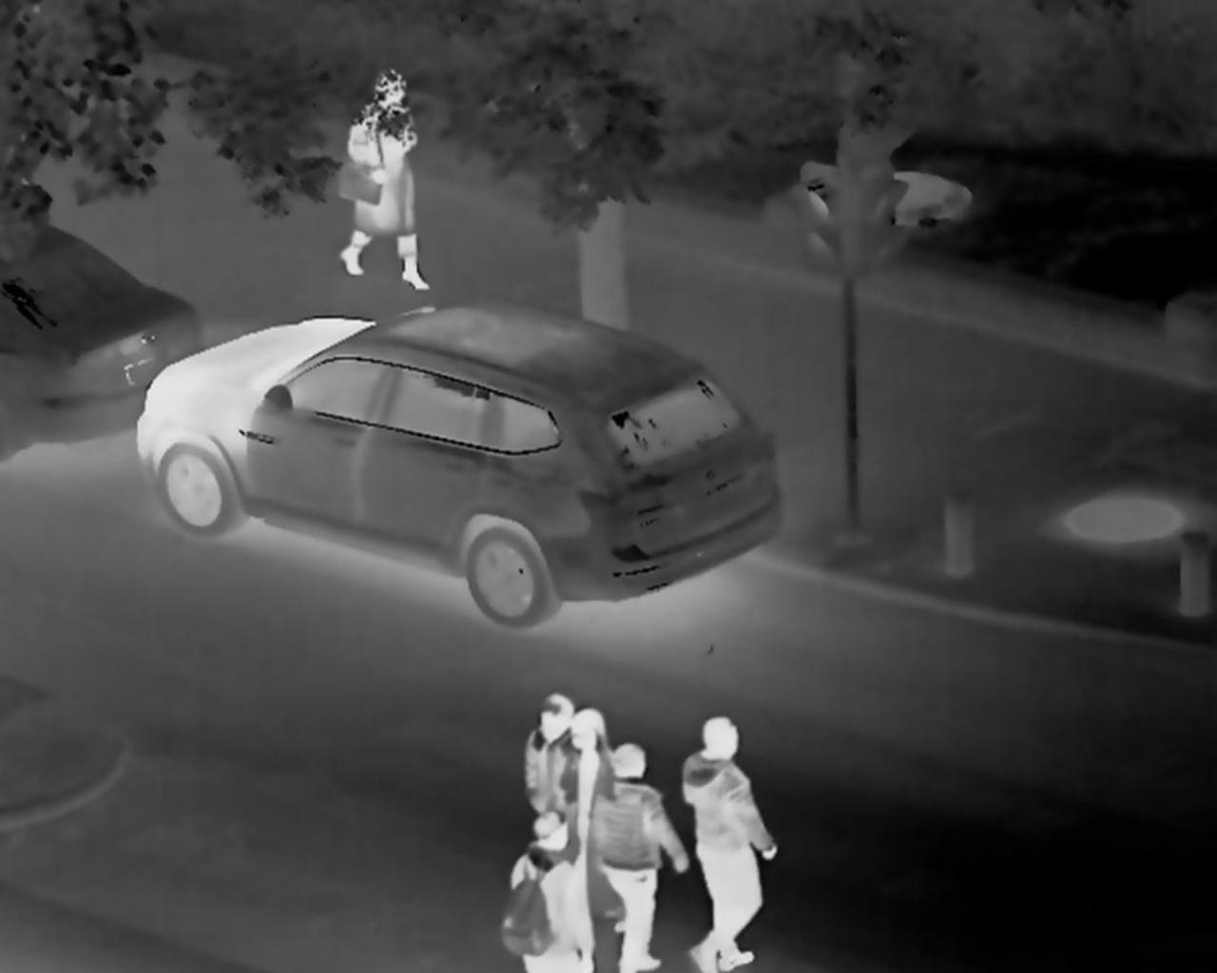person: (684, 706, 790, 973), (357, 67, 447, 339), (608, 743, 682, 973), (497, 818, 602, 973), (532, 689, 570, 803), (573, 715, 600, 835)
